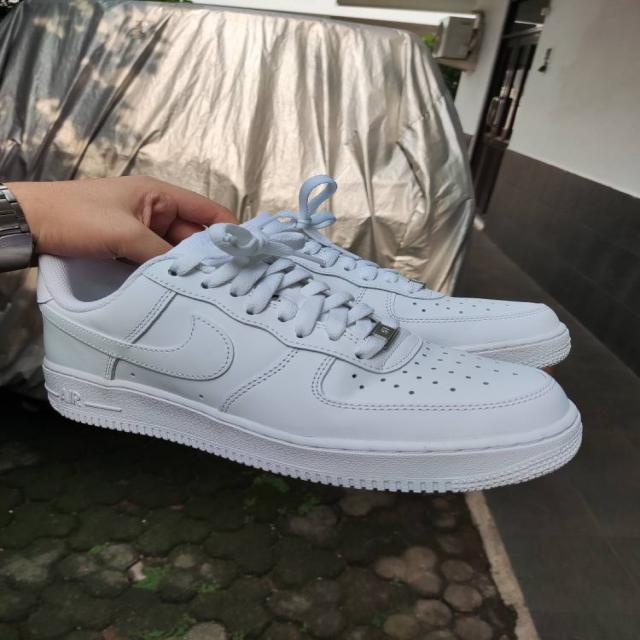nike original air force: (34, 230, 583, 490), (194, 211, 574, 365)
